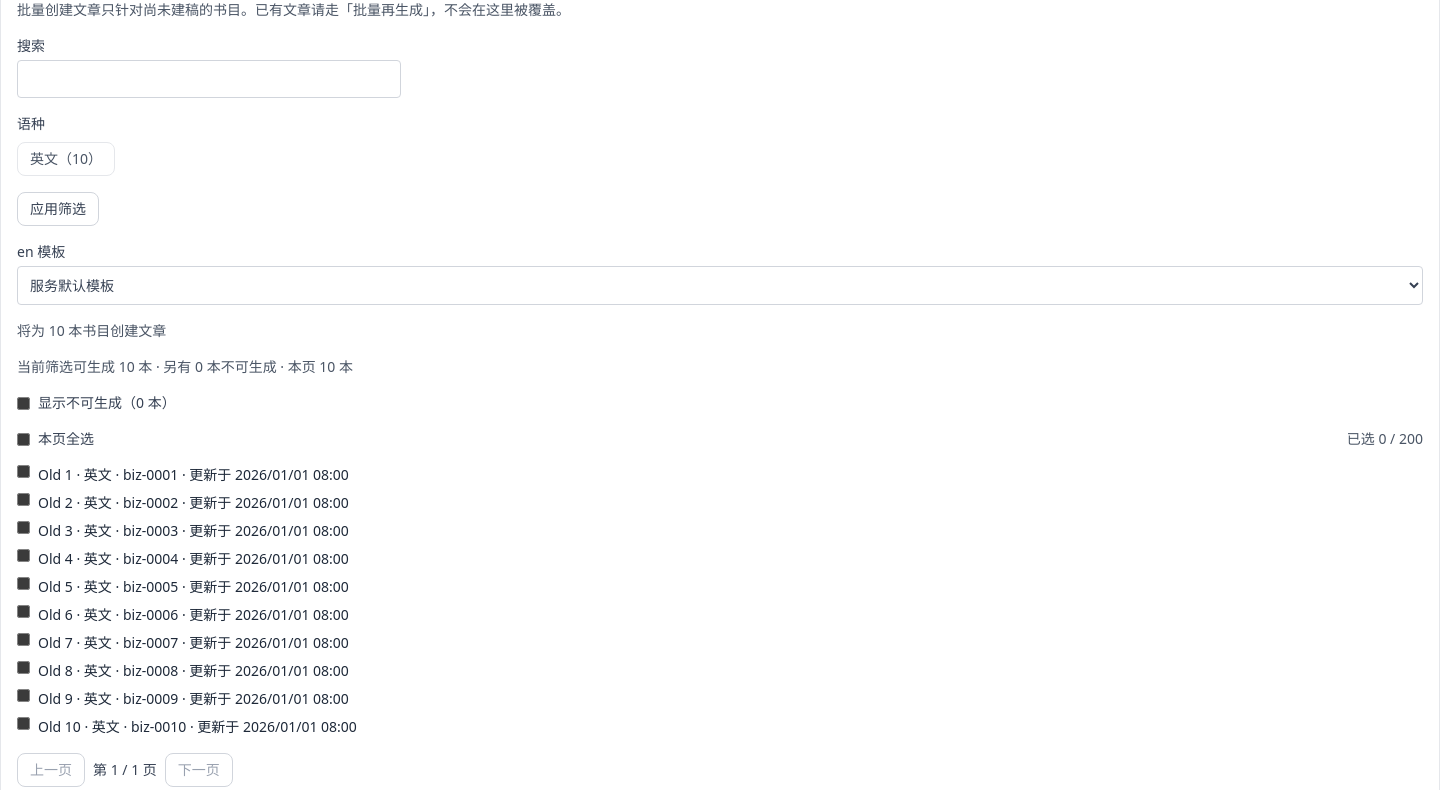
Test case: ArticleBatchGenerateForm (R2-02 / R2-03 / R2-04) › keeps the applied 10-book list when search is cleared without applying
Type "old" into the field with test id "batch-search" at (209, 79), box 17,60 -> 401,98
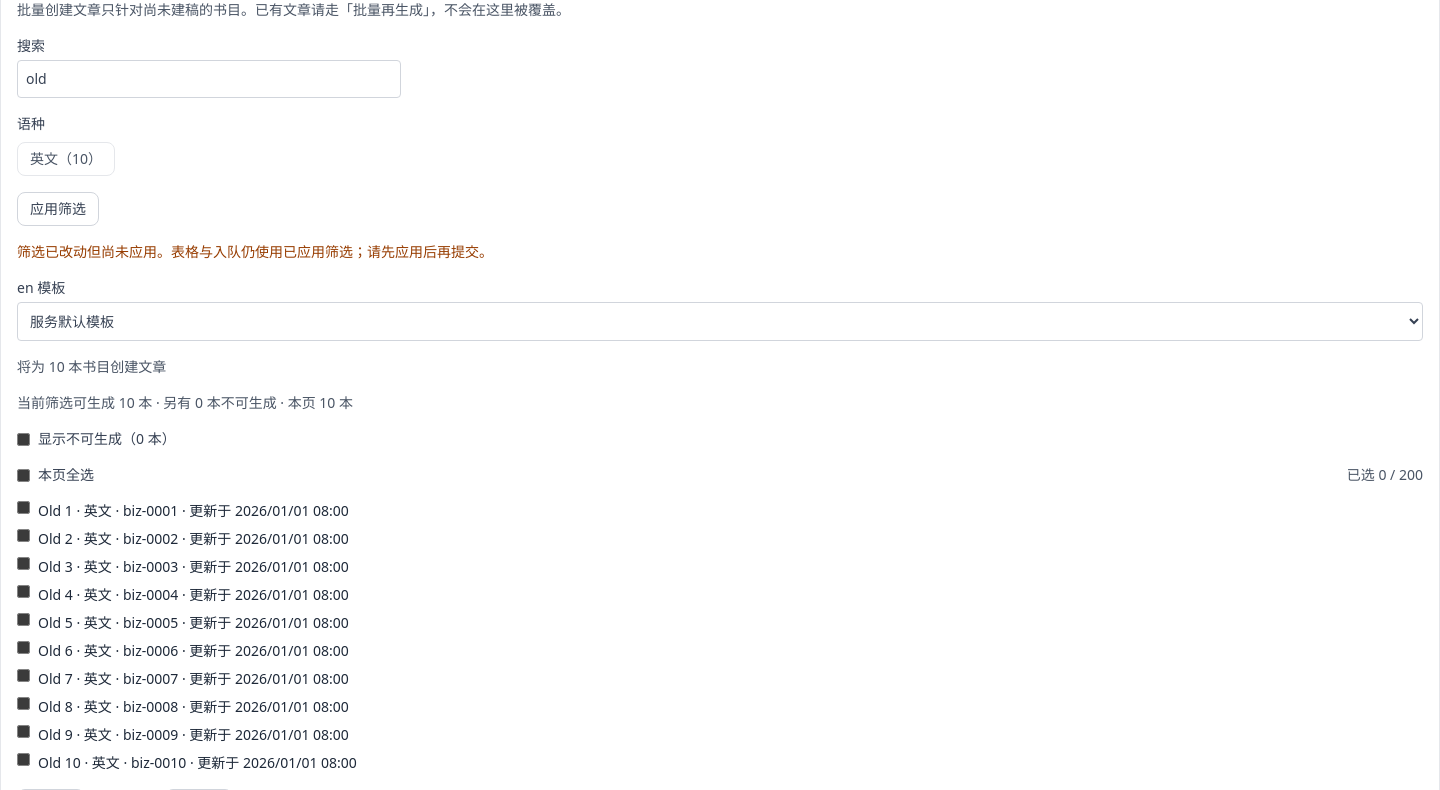
Click the button with test id "apply-filter" at (58, 209), box 17,192 -> 99,226
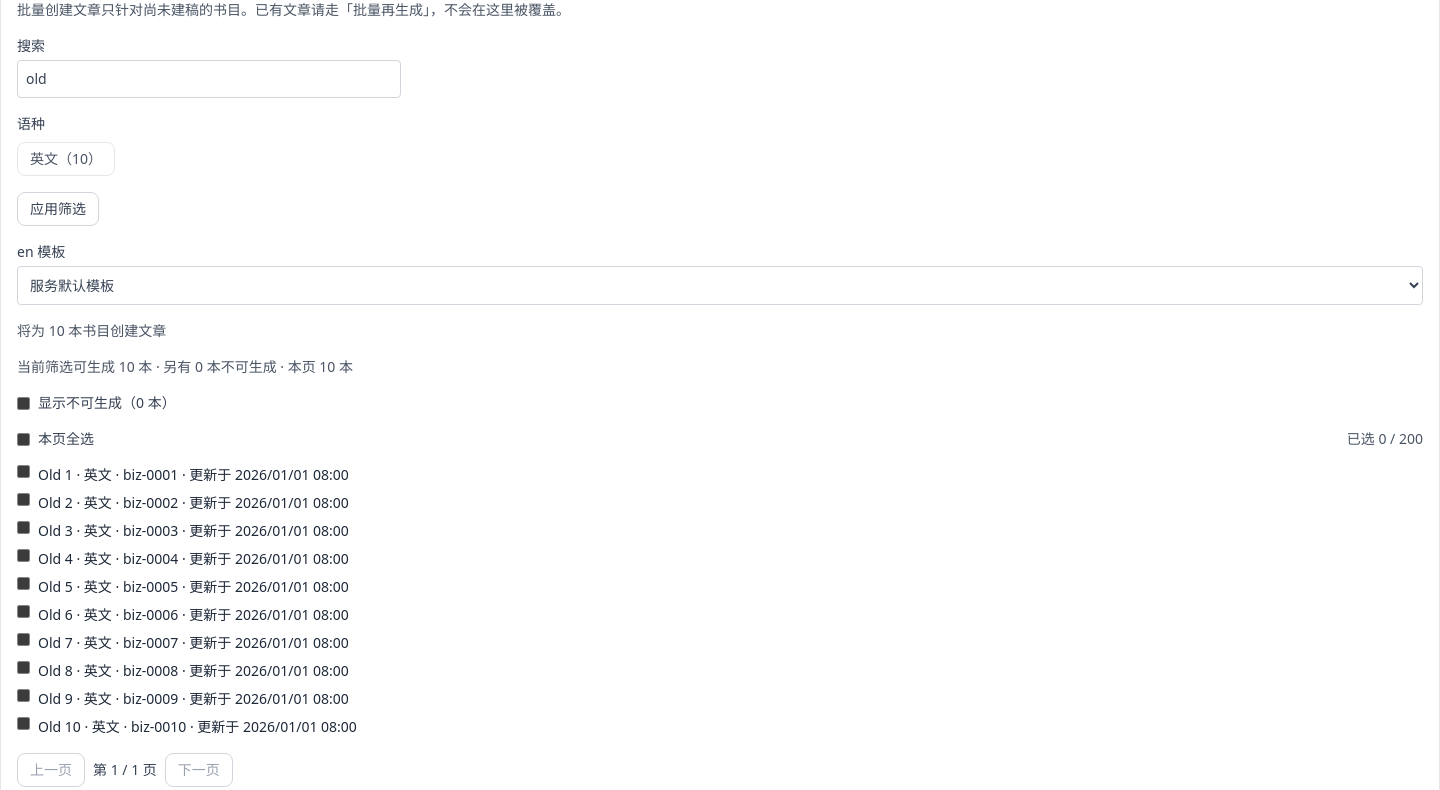
Clear the field with test id "batch-search" at (209, 79), box 17,60 -> 401,98
(page scrolled)
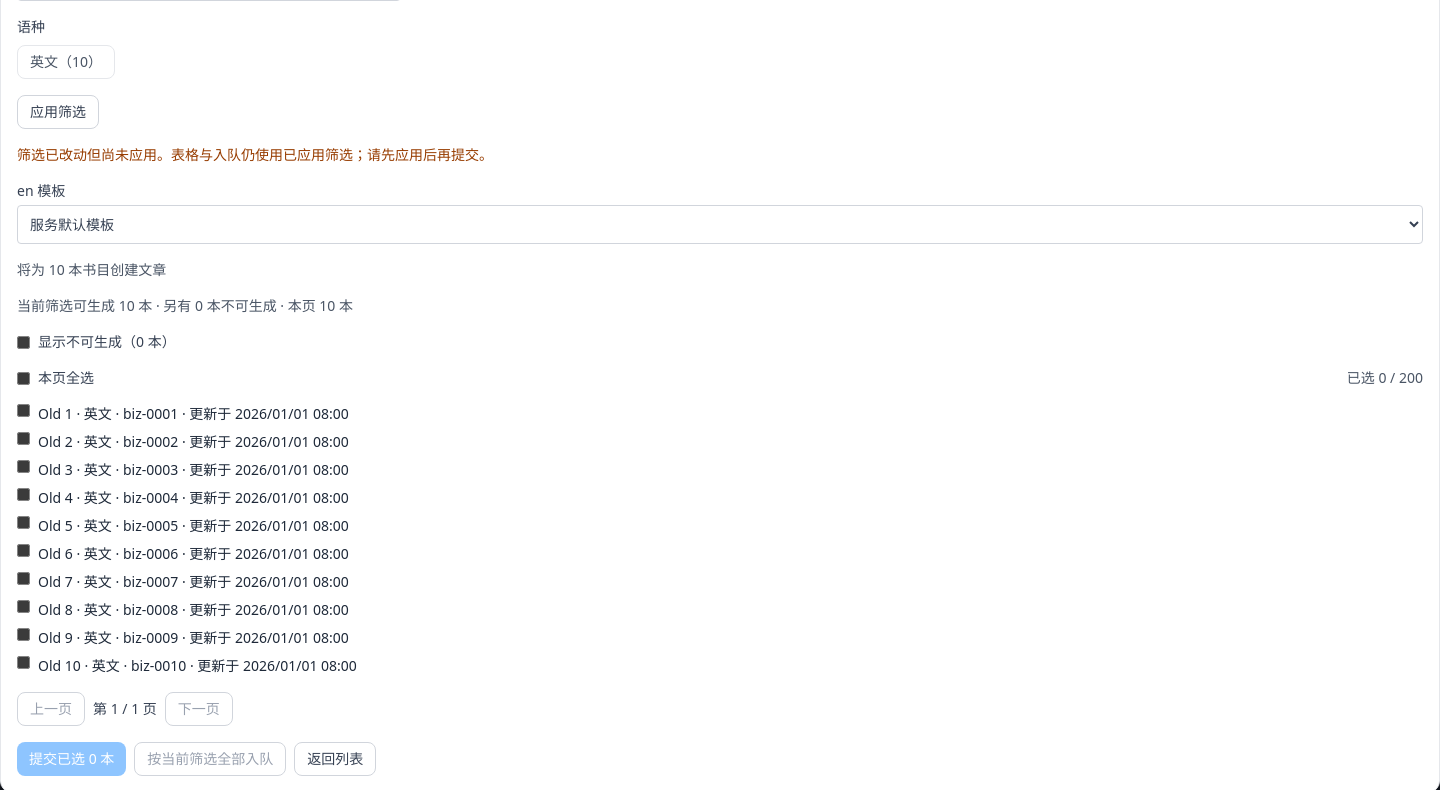
Expected: the text with test id "applied-total" shows "10", 119,296 -> 135,315
Now the text "筛选已改动但尚未应用。表格与入队仍使用已应用筛选；请先应用后再提交。" is shown, box 17,145 -> 493,164
Now the button with test id "submit-filtered" is disabled, box 134,742 -> 286,776
